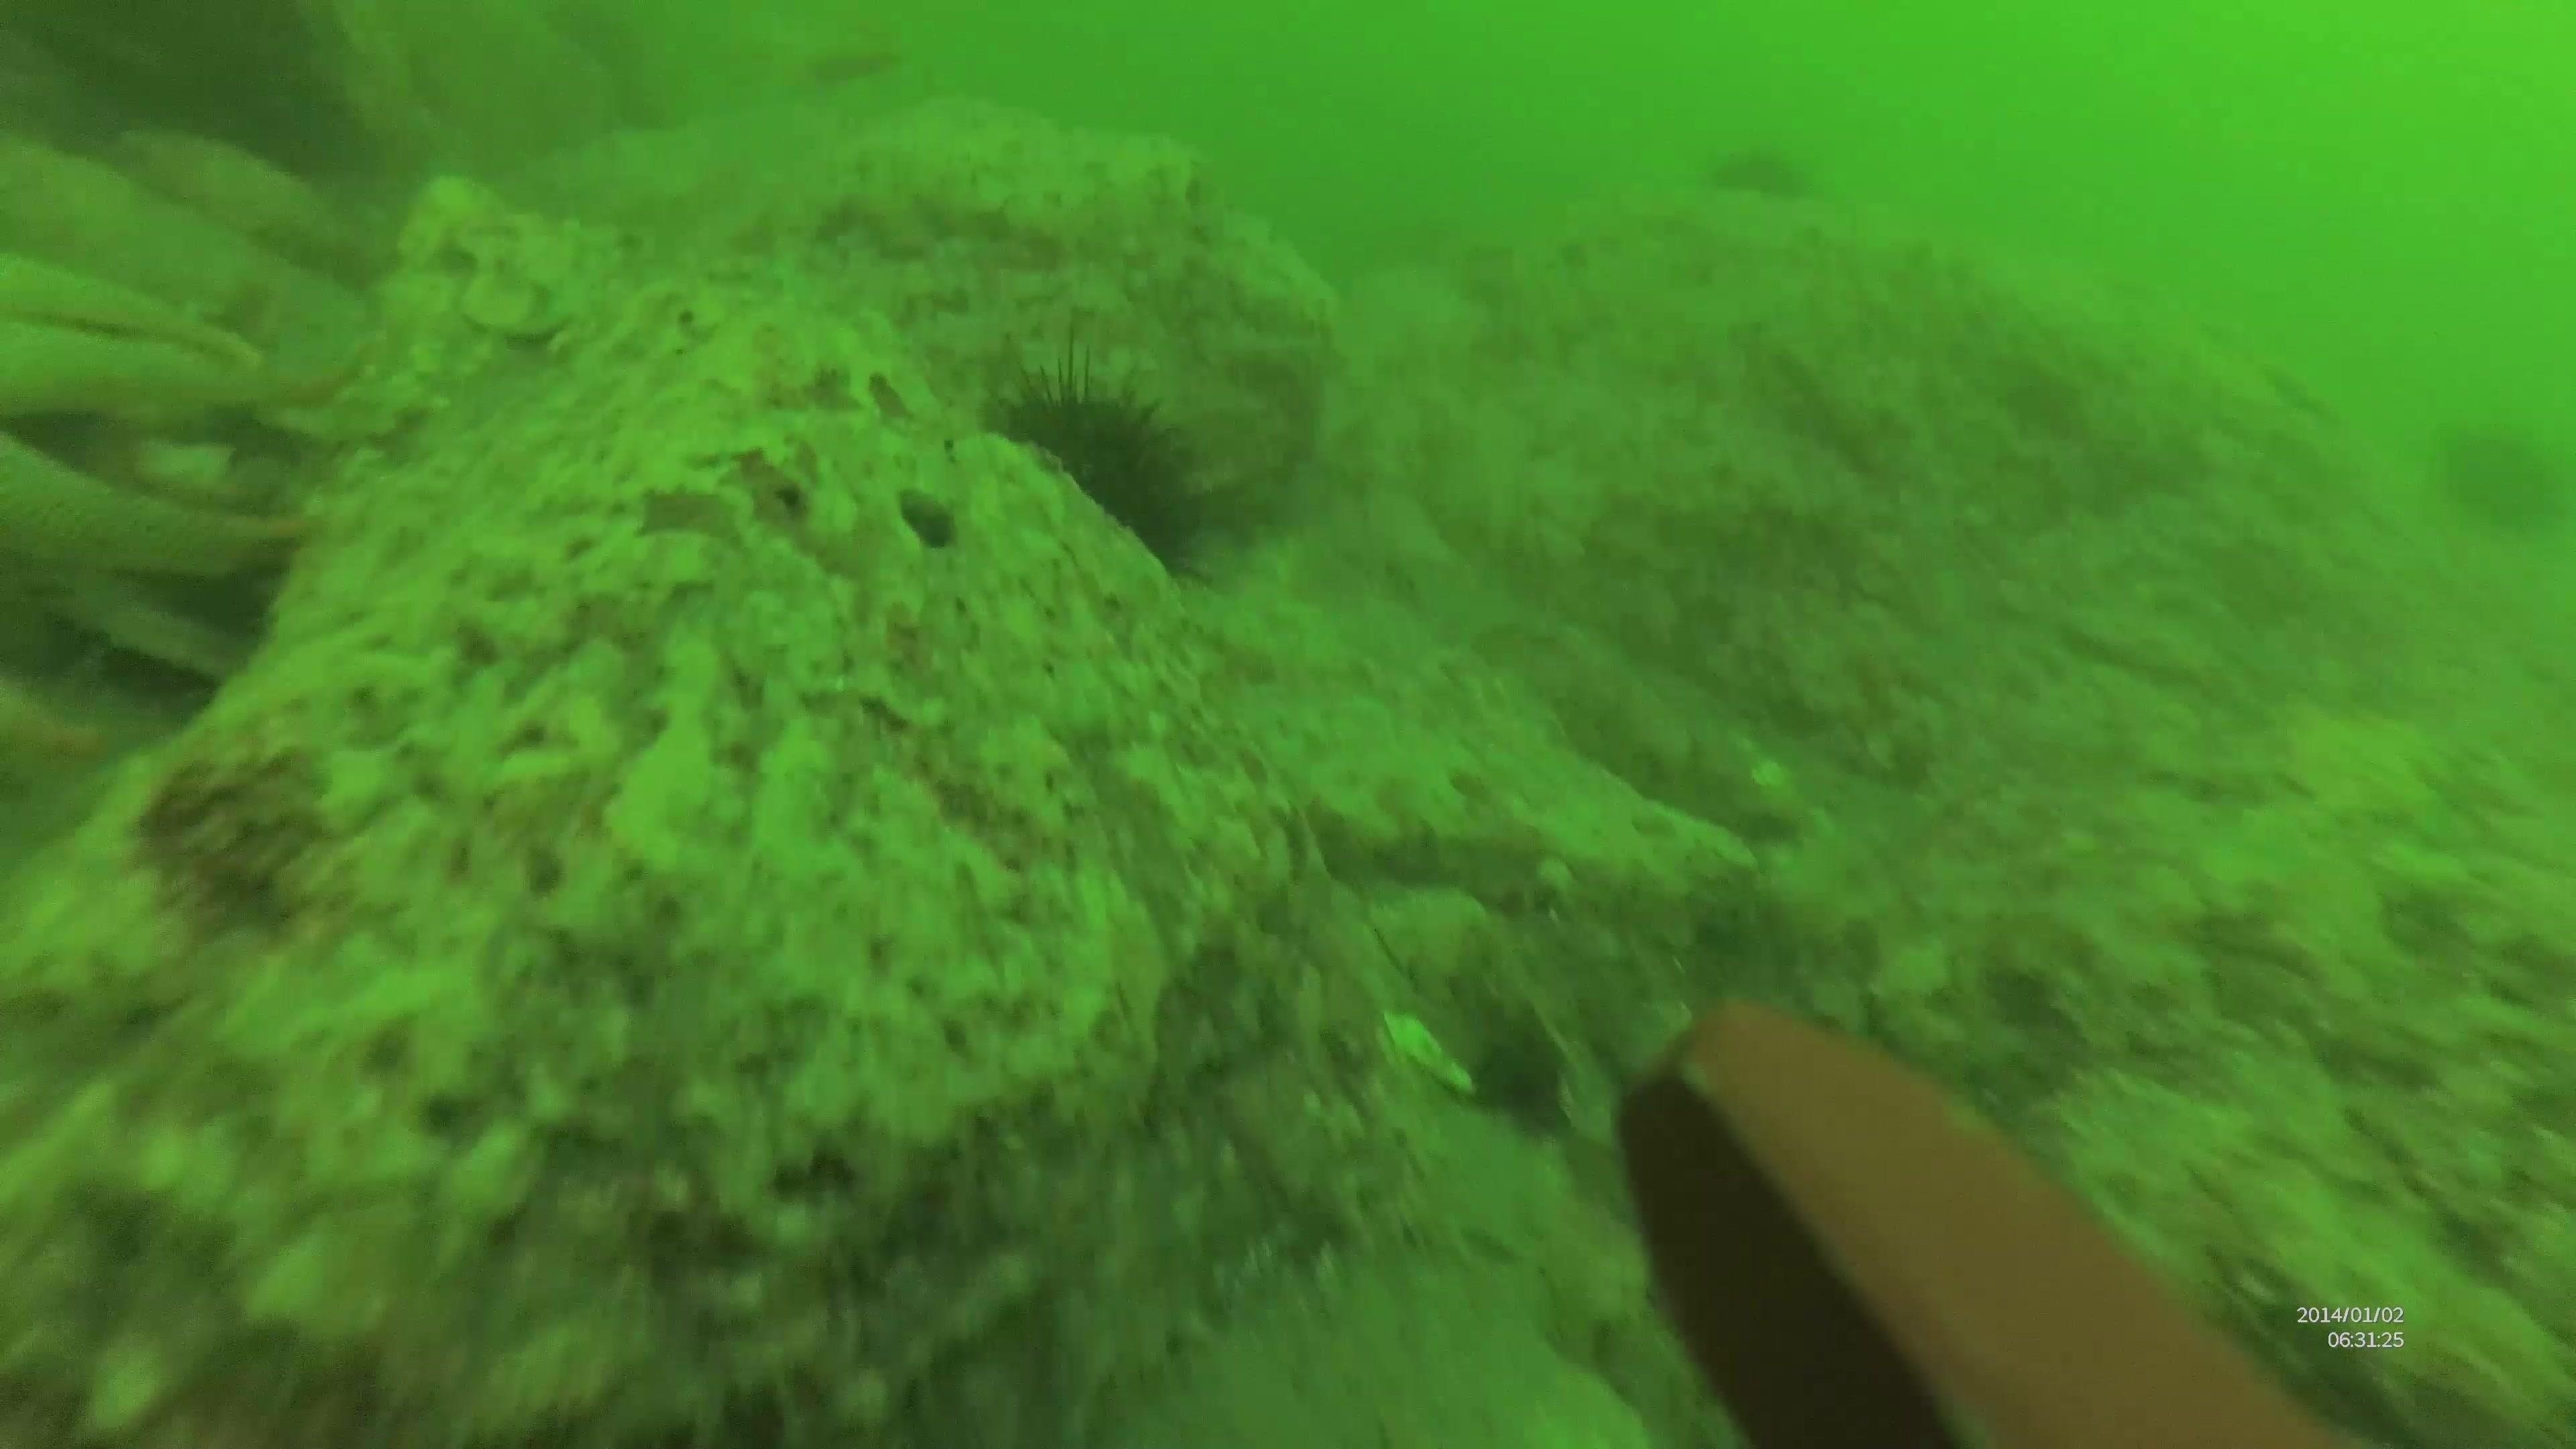echinus: (973, 349, 1226, 596), (2429, 412, 2567, 540)
